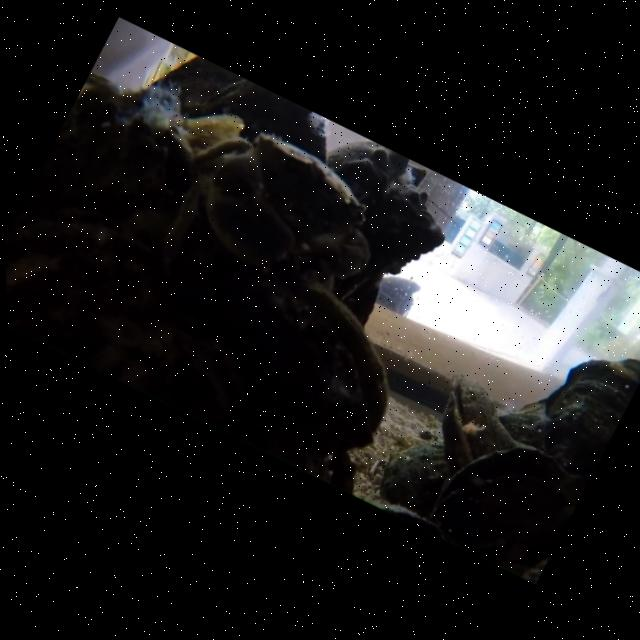Oyster-Closed: (180, 75, 329, 165)
Oyster-Indeterminate: (5, 208, 161, 364), (327, 142, 443, 323), (25, 86, 170, 221), (543, 376, 629, 487)
Oyster-Open: (235, 282, 388, 454), (431, 448, 582, 567), (442, 376, 518, 474)
